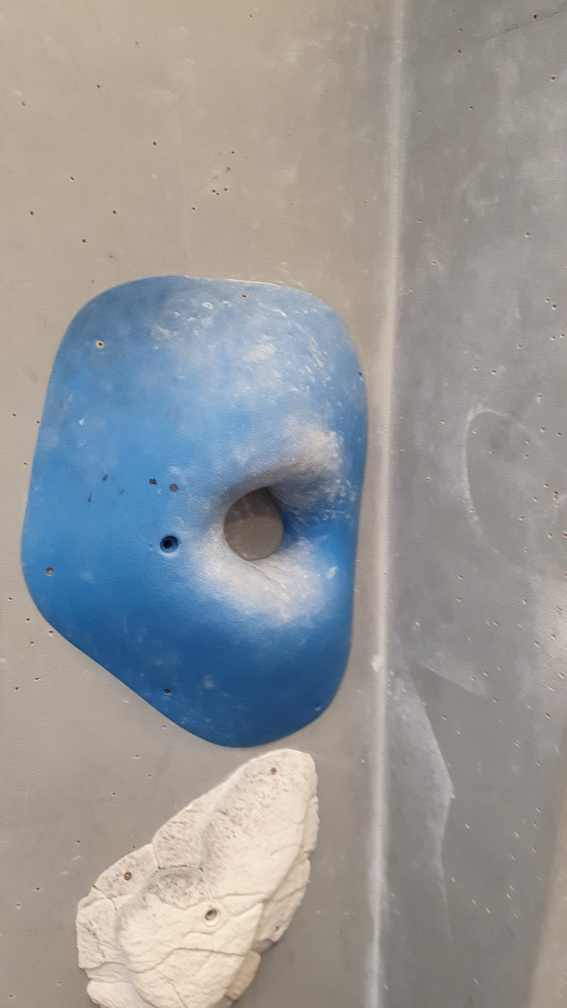Pocket: (19, 275, 373, 751)
